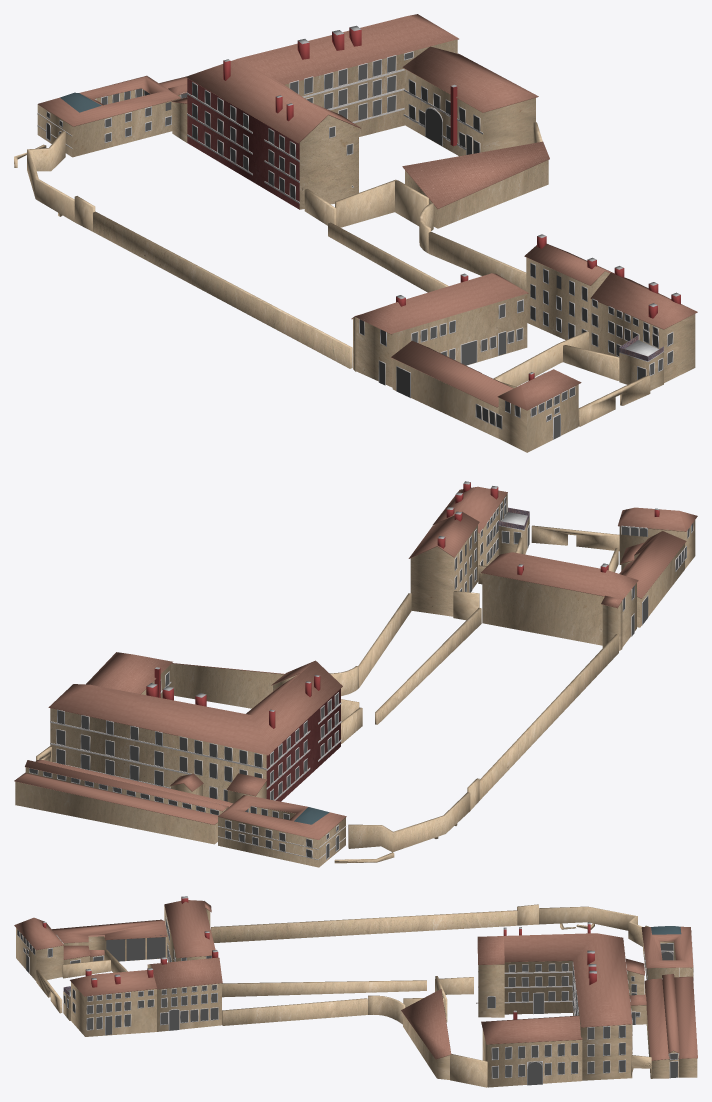
Rendered from ilot45combine.fbx.
3 renders of one model, top to bottom at view 1: azimuth 30°, elevation 25°; view 2: azimuth 150°, elevation 25°; view 3: azimuth 270°, elevation 25°, orthographic. The views are drawn at different scales.
Visible parts, largest first — view 1: _ILOT45BAT2, _ILOT45BAT8, _ILOT45BAT1, _ILOT45BAT6, _ILOT45BAT13, _ILOT45BAT7, _ILOT45BAT20, MUR21, _ILOT45BAT18, _ILOT45BAT9, MUR11, MUR22 (+8 smaller); view 2: _ILOT45BAT2, _ILOT45BAT8, _ILOT45BAT6, _ILOT45BAT5, _ILOT45BAT18, _ILOT45BAT13, _ILOT45BAT20, MUR21, _ILOT45BAT7, MUR22, _ILOT45BAT9, _ILOT45BAT4 (+9 smaller); view 3: _ILOT45BAT2, _ILOT45BAT1, _ILOT45BAT7, MUR21, _ILOT45BAT18, _ILOT45BAT20, _ILOT45BAT13, _ILOT45BAT8, MUR27, _ILOT45BAT6, MUR11, _ILOT45BAT9 (+13 smaller).
Boxes of the visible parts, x1,y1,x2,y2 form: _ILOT45BAT2: (186, 14, 458, 209); _ILOT45BAT8: (355, 273, 528, 387); _ILOT45BAT1: (402, 46, 538, 156); _ILOT45BAT6: (37, 75, 180, 157); _ILOT45BAT13: (402, 141, 549, 228); _ILOT45BAT7: (590, 266, 697, 382); _ILOT45BAT20: (391, 340, 513, 438); MUR21: (93, 211, 352, 368); _ILOT45BAT18: (524, 234, 614, 350); _ILOT45BAT9: (497, 369, 581, 452); MUR11: (428, 232, 526, 290); MUR22: (27, 131, 74, 221); _ILOT45BAT2: (48, 660, 342, 801); _ILOT45BAT8: (481, 552, 638, 647); _ILOT45BAT6: (218, 795, 346, 867); _ILOT45BAT5: (14, 772, 218, 844); _ILOT45BAT18: (408, 511, 479, 616); _ILOT45BAT13: (171, 663, 284, 708); _ILOT45BAT20: (619, 531, 686, 627); MUR21: (479, 634, 618, 800); _ILOT45BAT7: (433, 481, 507, 581); MUR22: (348, 792, 470, 852); _ILOT45BAT9: (618, 507, 697, 568); _ILOT45BAT4: (25, 760, 228, 815); _ILOT45BAT2: (476, 922, 632, 1080); _ILOT45BAT1: (481, 1010, 582, 1087); _ILOT45BAT7: (70, 968, 156, 1036); MUR21: (211, 910, 517, 942); _ILOT45BAT18: (147, 950, 222, 1031); _ILOT45BAT20: (52, 919, 167, 961); _ILOT45BAT13: (401, 989, 451, 1079); _ILOT45BAT8: (164, 896, 215, 962); MUR27: (222, 980, 426, 997); _ILOT45BAT6: (641, 926, 693, 982); MUR11: (222, 998, 367, 1025); _ILOT45BAT9: (14, 917, 63, 980).
Bounding box in the file's own units: 14.71 × 3.36 × 26.96.
